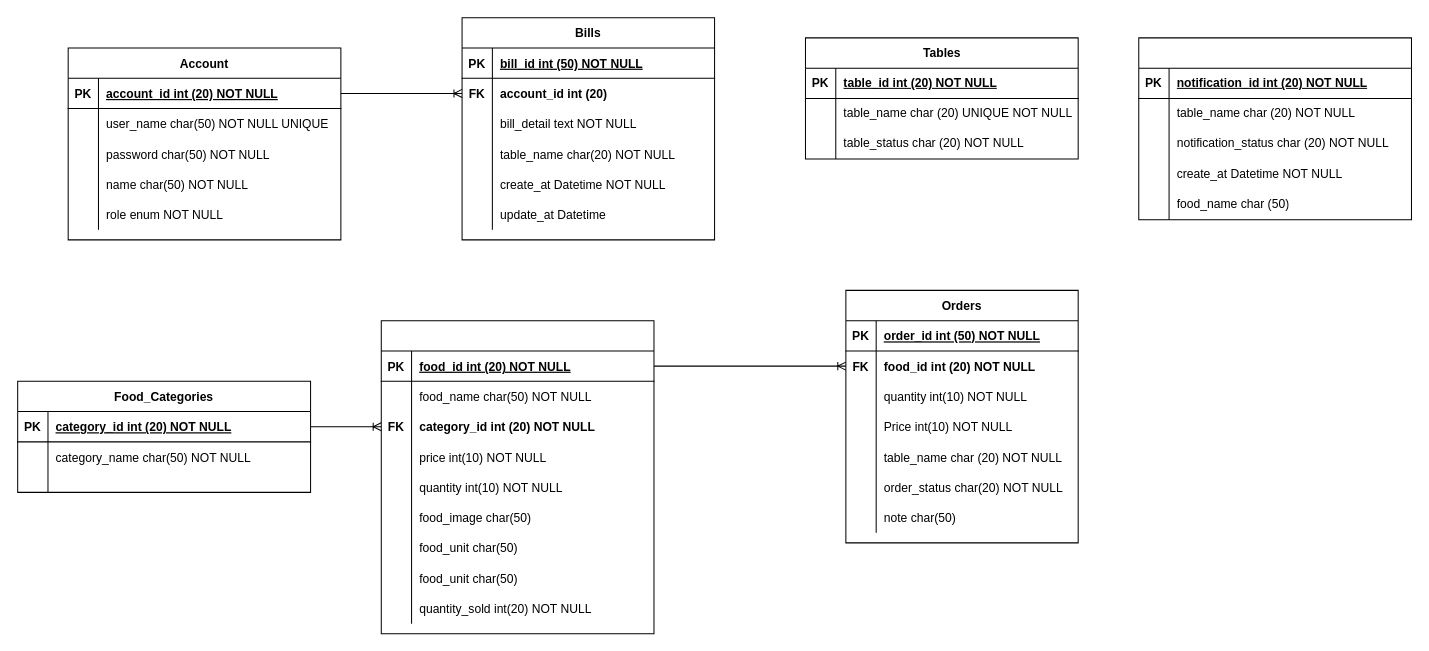
Image size: 1429x651. Some labels were removed from this diagram. The box of each missing label's shape, as (x1, y1, x2, y2) in pixels:
Foods: (380, 320, 654, 634)
Waiter_notification: (1138, 37, 1411, 220)
